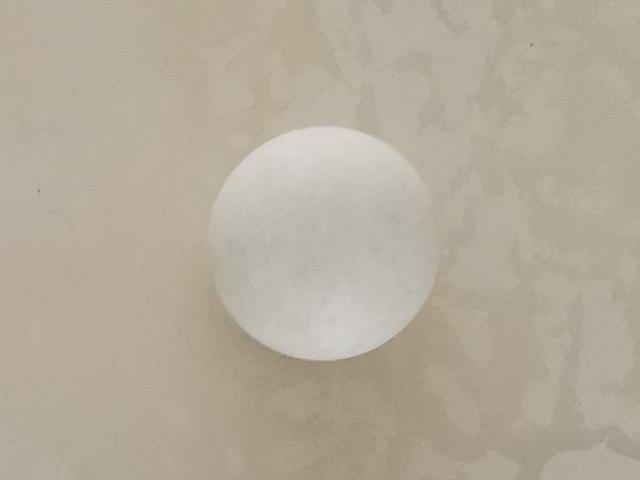ball: (207, 125, 443, 363)
